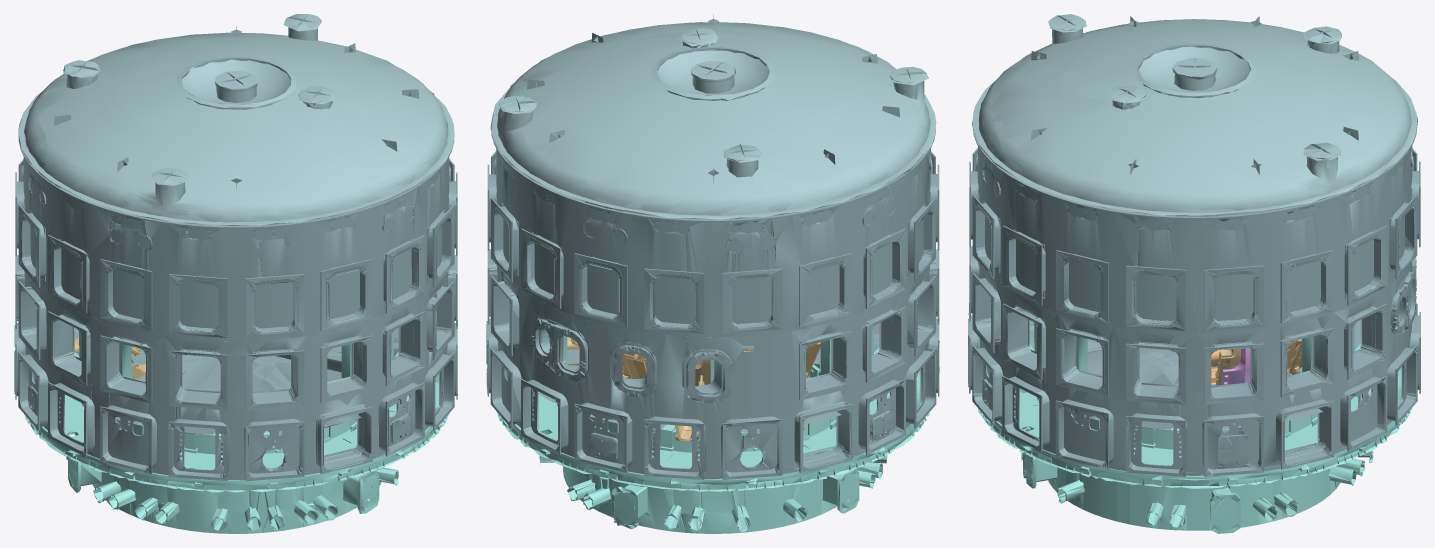
File: iter-public-simplified-preview.meshopt.glb
3 views of the same model, side by side, from view 1: azimuth 30°, elevation 25°; view 2: azimuth 150°, elevation 25°; view 3: azimuth 270°, elevation 25° (orthographic). The views are drawn at different scales.
Parts seen in each view (by area): view 1: ITER_MESH__cryostat-top, ITER_MESH__cryostat-lower, ITER_MESH__cryostat-upper, ITER_MESH__cryostat-base, ITER_MESH__pf5, ITER_MESH__pf4; view 2: ITER_MESH__cryostat-top, ITER_MESH__cryostat-lower, ITER_MESH__cryostat-upper, ITER_MESH__cryostat-base, ITER_MESH__pf5, ITER_MESH__pf4, ITER_MESH__vv3, ITER_MESH__vv2; view 3: ITER_MESH__cryostat-top, ITER_MESH__cryostat-lower, ITER_MESH__cryostat-upper, ITER_MESH__cryostat-base, ITER_MESH__pf5, ITER_MESH__pf4, ITER_MESH__vv1.
Part boxes in pixels (left/top/right/bottom): ITER_MESH__cryostat-top: left=18, top=14, right=454, bottom=225; ITER_MESH__cryostat-lower: left=14, top=255, right=457, bottom=481; ITER_MESH__cryostat-upper: left=15, top=137, right=457, bottom=341; ITER_MESH__cryostat-base: left=24, top=374, right=448, bottom=533; ITER_MESH__pf5: left=116, top=377, right=356, bottom=454; ITER_MESH__pf4: left=74, top=331, right=398, bottom=387; ITER_MESH__cryostat-top: left=490, top=14, right=936, bottom=219; ITER_MESH__cryostat-lower: left=486, top=249, right=939, bottom=479; ITER_MESH__cryostat-upper: left=487, top=115, right=939, bottom=336; ITER_MESH__cryostat-base: left=496, top=370, right=929, bottom=533; ITER_MESH__pf5: left=591, top=363, right=836, bottom=452; ITER_MESH__pf4: left=563, top=327, right=879, bottom=382; ITER_MESH__vv3: left=636, top=354, right=710, bottom=442; ITER_MESH__vv2: left=590, top=353, right=646, bottom=419; ITER_MESH__cryostat-top: left=972, top=14, right=1417, bottom=216; ITER_MESH__cryostat-lower: left=968, top=245, right=1420, bottom=476; ITER_MESH__cryostat-upper: left=969, top=124, right=1420, bottom=333; ITER_MESH__cryostat-base: left=978, top=367, right=1412, bottom=533; ITER_MESH__pf5: left=1072, top=413, right=1317, bottom=449; ITER_MESH__pf4: left=1029, top=323, right=1360, bottom=381; ITER_MESH__vv1: left=1215, top=339, right=1301, bottom=428.
Size of the model in its own units: 30.02 by 29.23 by 29.86.
